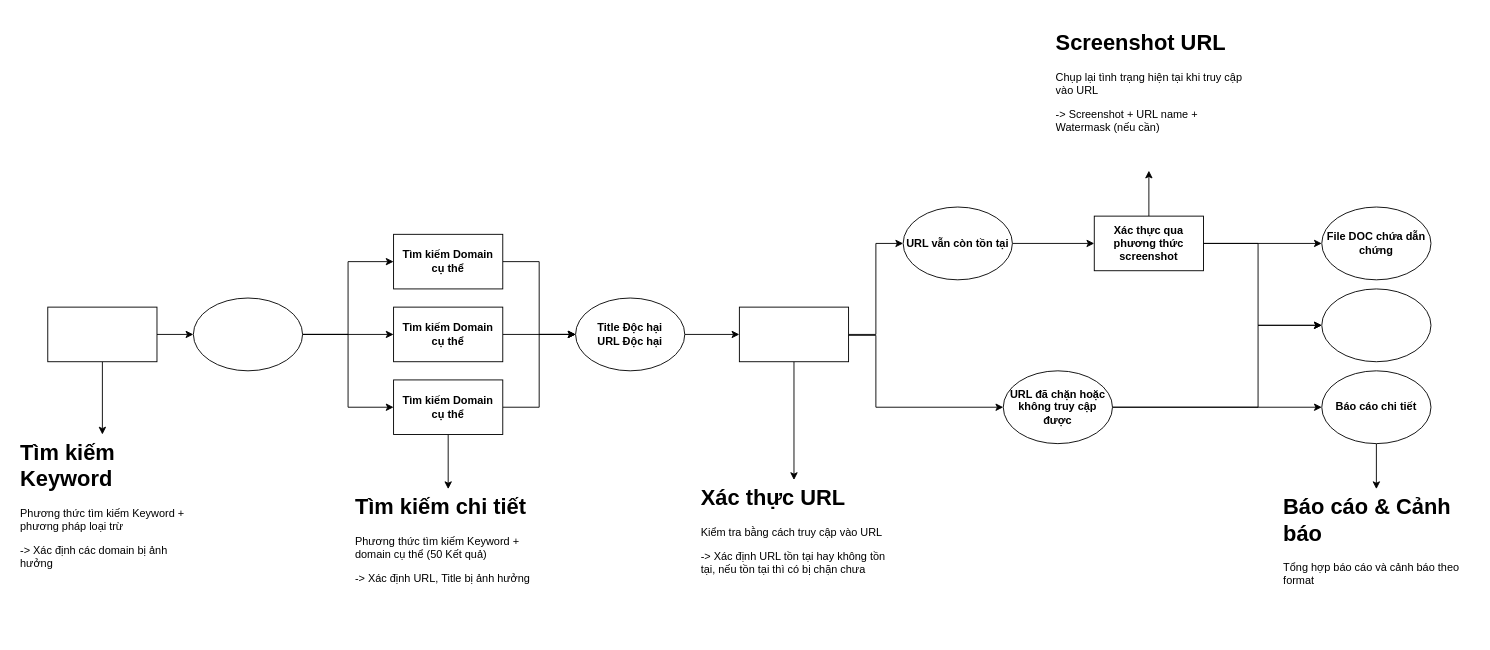
Some shapes in this 1490 by 650 pixel diagram are drawn without their labels. Each missing label, with the centre of its shape:
"Cảnh báo Alert (chỉ tìm kiếm trong ngày)" goes at point 1376,325.
"Domain bị dính" goes at point 247,334.
"Tìm kiếm Keyword chung (TPHCM)" goes at point 102,334.
"Xác thực URL (tình trạng hiện tại)" goes at point 793,334.
